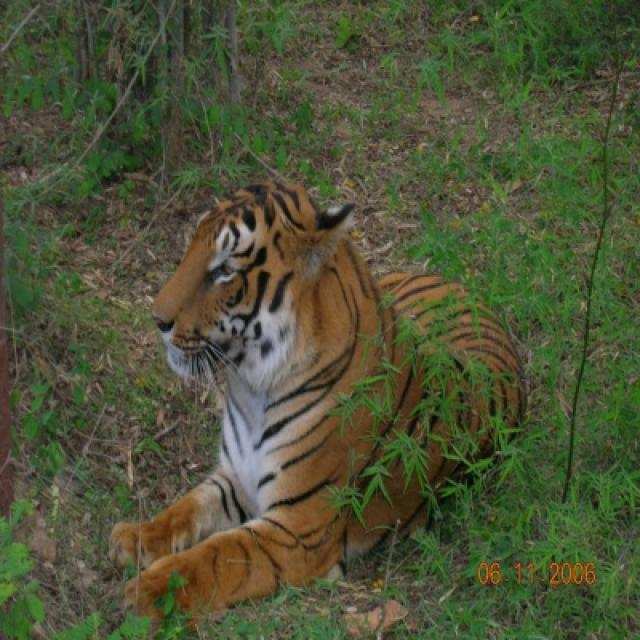Tiger: (99, 170, 521, 617)
